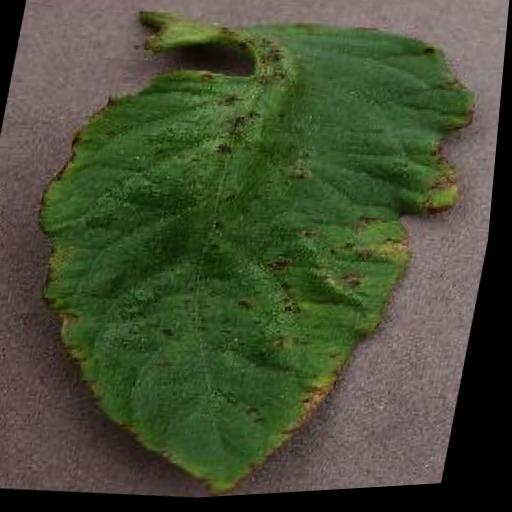Bacterial Spot: (0, 0, 497, 511)
